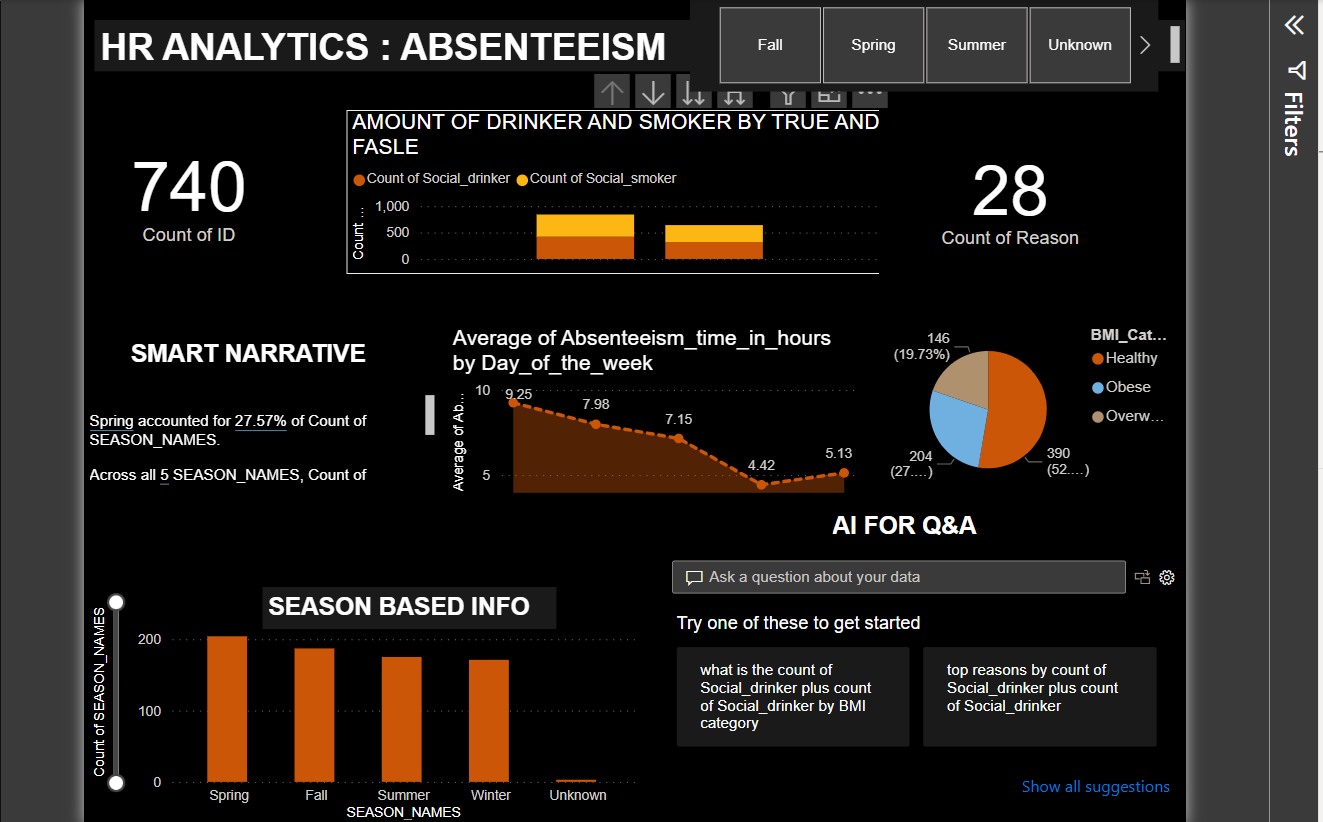

The dashboard page shown, as its layout file describes it:
{"tool":"powerbi","page":{"name":"Page 1","canvas":[960,720],"ordinal":0},"visuals":[{"type":"textbox","box":[9.7,18,950.3,44.4],"z":0},{"type":"card","fields":{"Values":["CountNonNull(Query1.ID)"]},"box":[9.6,99.7,163.9,136.6],"z":1000},{"type":"columnChart","title":"AMOUNT OF DRINKER AND SMOKER BY TRUE AND FASLE","fields":{"Category":["Query1.Social_drinker","Query1.Social_smoker"],"Y":["CountNonNull(Query1.Social_drinker)","CountNonNull(Query1.Social_smoker)"]},"box":[228.7,96.7,473,142.4],"z":2000},{"type":"card","fields":{"Values":["Count(Query1.Reason)"]},"box":[692.7,97,228.2,147.6],"z":3000},{"type":"slicer","fields":{"Values":["Query1.SEASON_NAMES"]},"box":[528.6,0,407.9,80.5],"z":4000},{"type":"columnChart","fields":{"Category":["Query1.SEASON_NAMES"],"Y":["CountNonNull(Query1.SEASON_NAMES)"]},"box":[0,512.2,484.8,207.8],"z":5000},{"type":"textbox","box":[155.5,512.2,256.1,36.6],"z":6000},{"type":"textbox","box":[0,340.2,310.1,90.2],"z":7000},{"type":"qnaVisual","box":[503.1,463.9,456,256.1],"z":8000},{"type":"textbox","box":[9.6,291,267.8,35.5],"z":8001},{"type":"textbox","box":[646.8,441.7,159.4,44.4],"z":8002},{"type":"areaChart","fields":{"Category":["Query1.Day_of_the_week"],"Y":["Avg(Query1.Absenteeism_time_in_hours)"]},"box":[316.2,284.9,360.7,150.3],"z":8003},{"type":"pieChart","fields":{"Category":["Query1.BMI_Category"],"Y":["CountNonNull(Query1.BMI_Category)"]},"box":[692.6,279.6,266.6,155.5],"z":8004}]}

Visuals, with their boxes on the page's 960x720 design canvas (x1, y1, x2, y2). These are canvas units, not pixel positions in the 1323x822 screenshot, which may show the page scaled, cropped or inside an application window:
textbox: (10, 18, 960, 62)
card - CountNonNull(Query1.ID): (10, 100, 174, 236)
"AMOUNT OF DRINKER AND SMOKER BY TRUE AND FASLE" columnChart: (229, 97, 702, 239)
card - Count(Query1.Reason): (693, 97, 921, 245)
slicer - Query1.SEASON_NAMES: (529, 0, 936, 80)
columnChart - Query1.SEASON_NAMES x CountNonNull(Query1.SEASON_NAMES): (0, 512, 485, 720)
textbox: (156, 512, 412, 549)
textbox: (0, 340, 310, 430)
qnaVisual: (503, 464, 959, 720)
textbox: (10, 291, 277, 326)
textbox: (647, 442, 806, 486)
areaChart - Query1.Day_of_the_week x Avg(Query1.Absenteeism_time_in_hours): (316, 285, 677, 435)
pieChart - Query1.BMI_Category x CountNonNull(Query1.BMI_Category): (693, 280, 959, 435)
